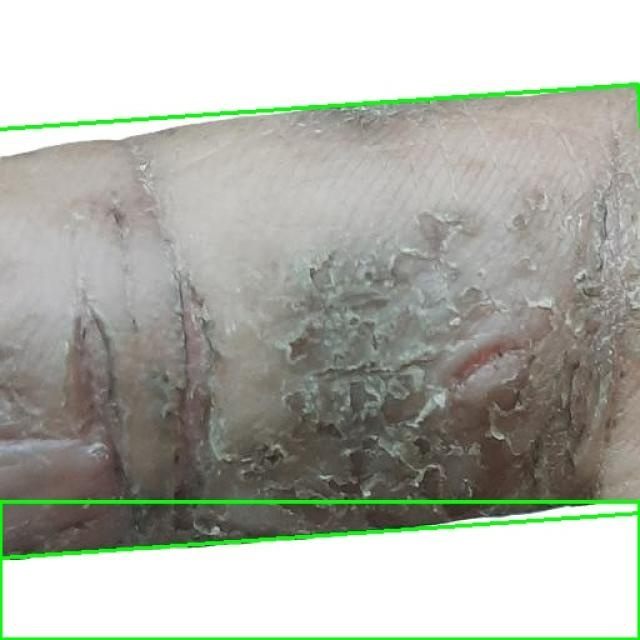Eczema: (0, 84, 640, 558), (0, 501, 639, 639)
